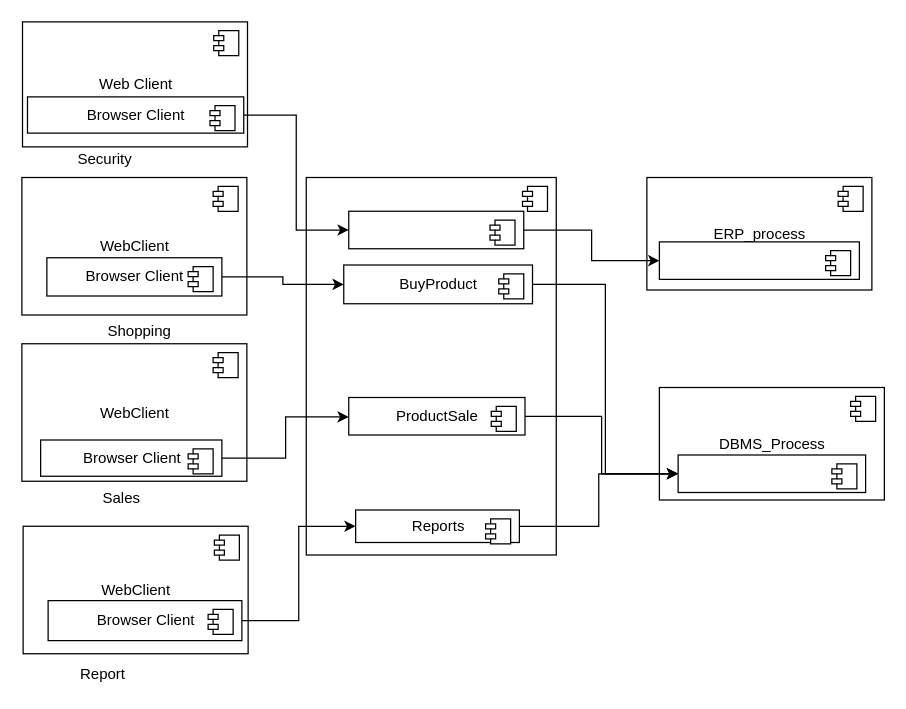
Some shapes in this 906 by 709 pixel diagram are drawn without their labels. The box of each missing label's shape, as (x1, y1, x2, y2) in pixels:
ApplicationServer: (305, 176, 556, 555)
BD: (677, 454, 866, 492)
ERP: (658, 241, 859, 279)
UsersAuth: (348, 210, 524, 249)
